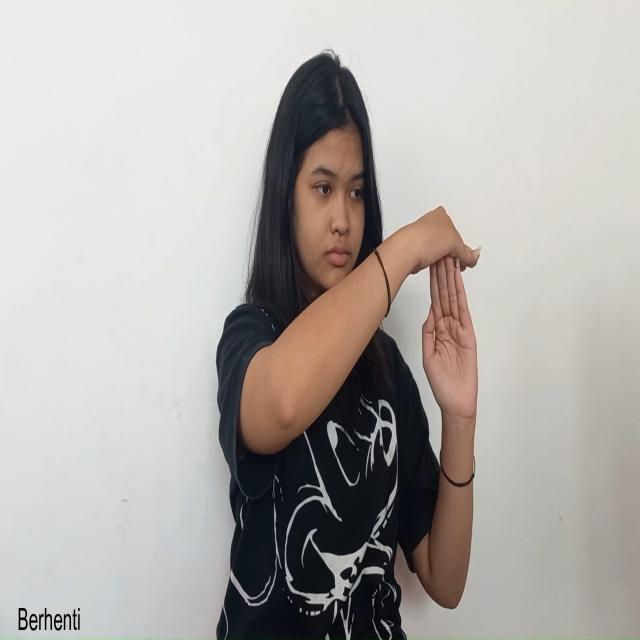Berhenti -BISINDO-: (400, 202, 483, 437)
